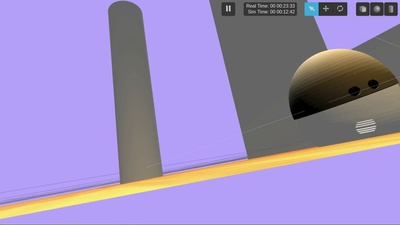mira_robot: (288, 49, 400, 147)
